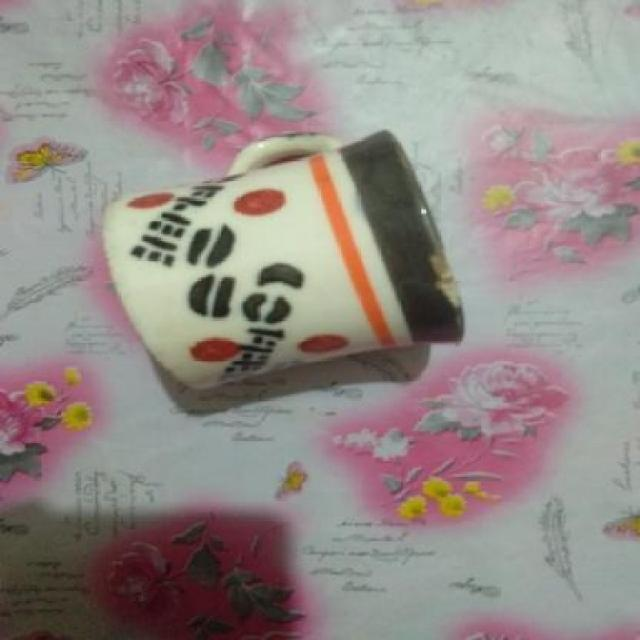garbage: (77, 142, 494, 422)
